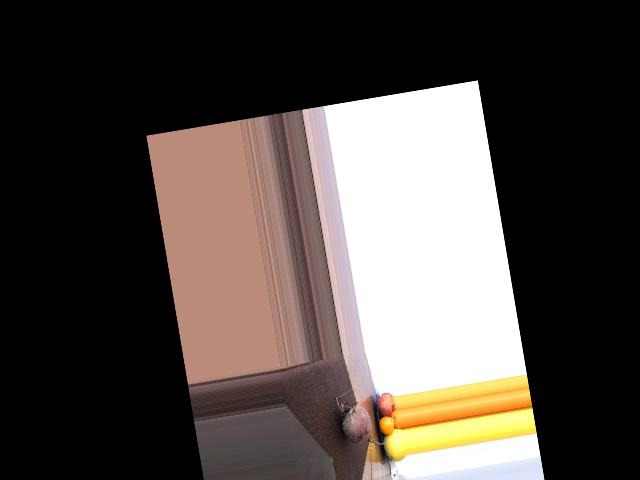beet: (334, 385, 388, 451)
